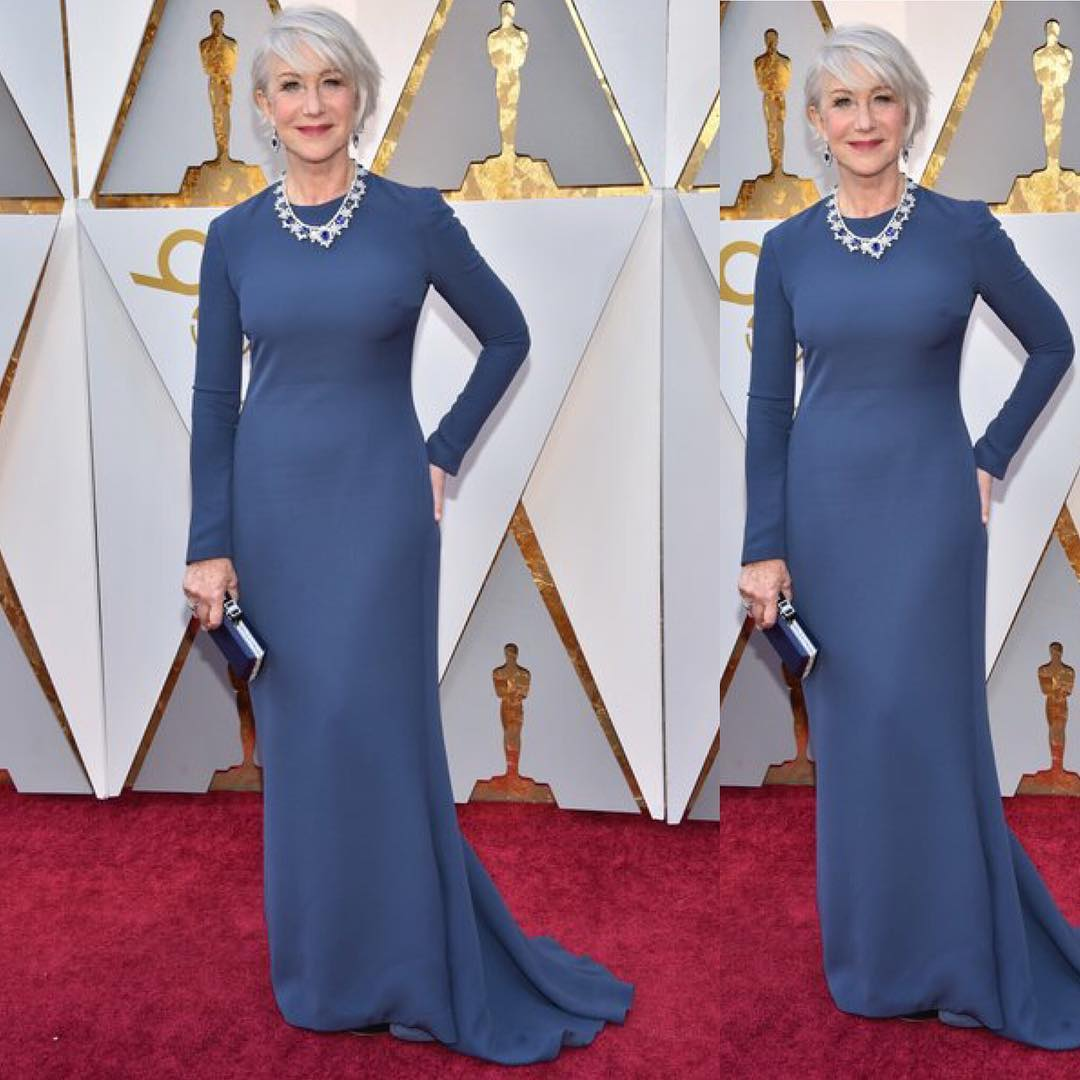hand: (185, 548, 234, 632)
